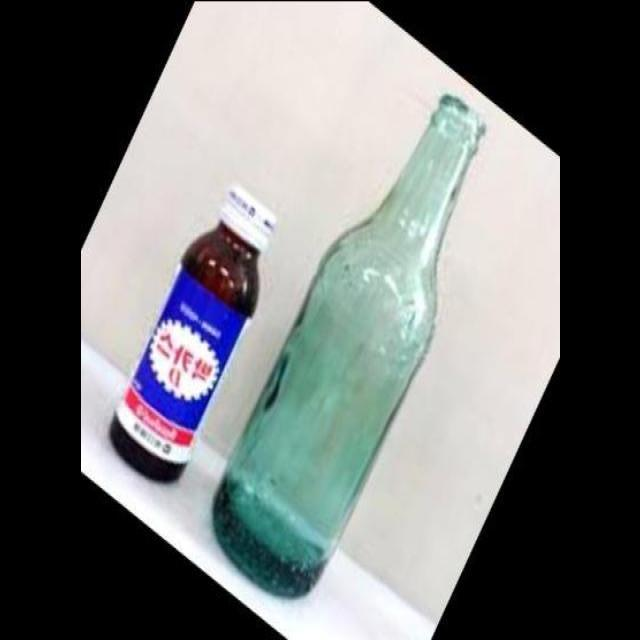Glass: (208, 76, 490, 623), (105, 177, 282, 496)
